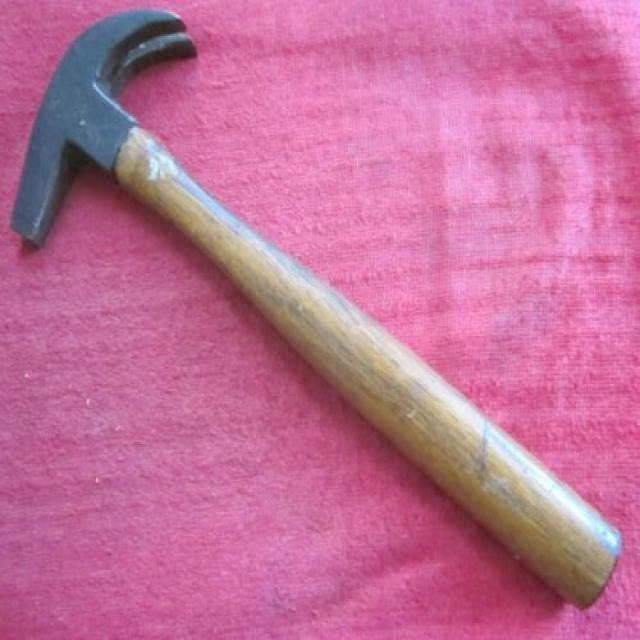hammer: (11, 2, 628, 614)
